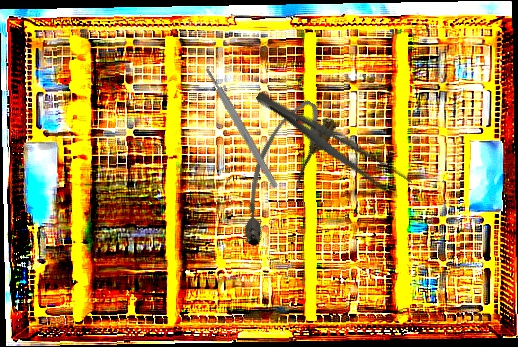Cannula: (218, 92, 341, 253)
Dressing Forceps: (249, 83, 416, 202)
Scalpel Handle: (203, 66, 280, 190)
